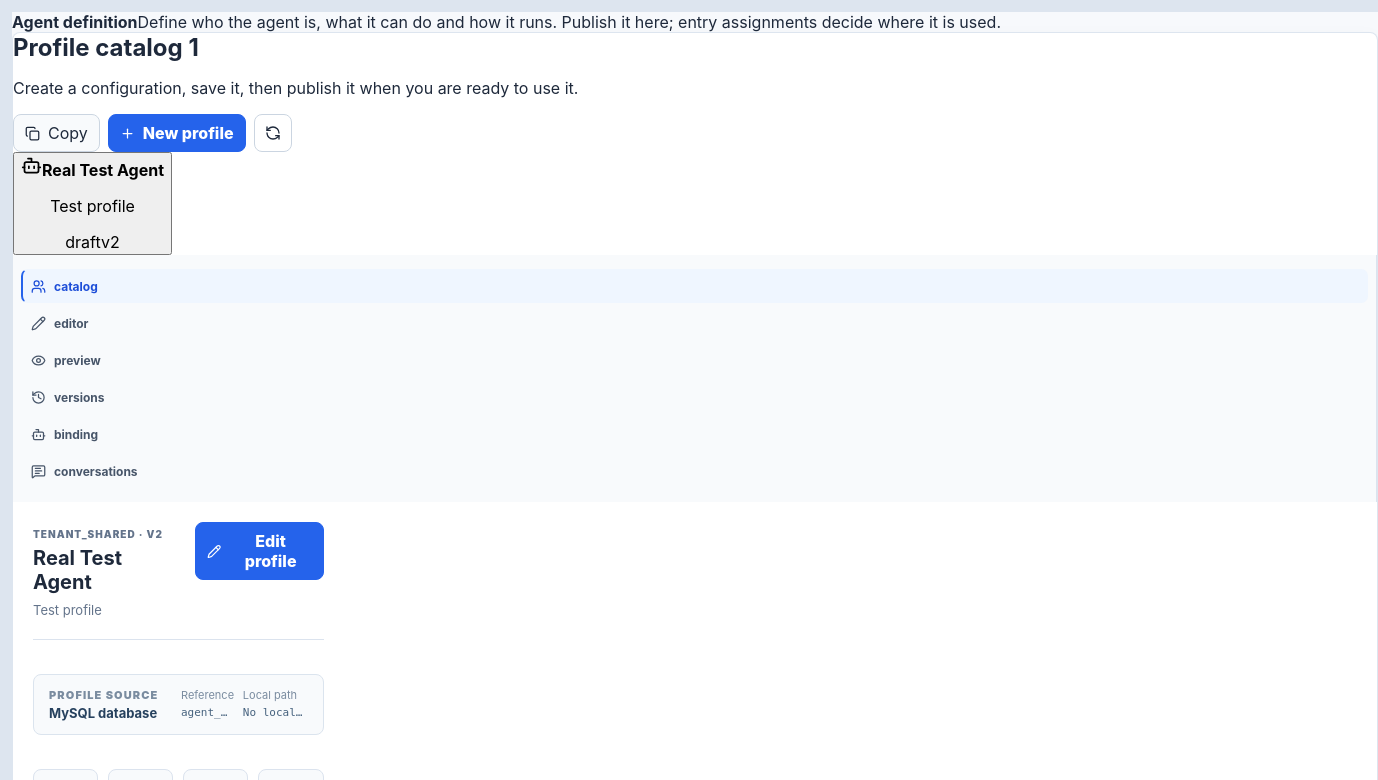
Test: v2 profile settings API workflows › creates rollback drafts through the existing version endpoint
Click the tab "versions" at (79, 397), box [21, 380, 1368, 414]
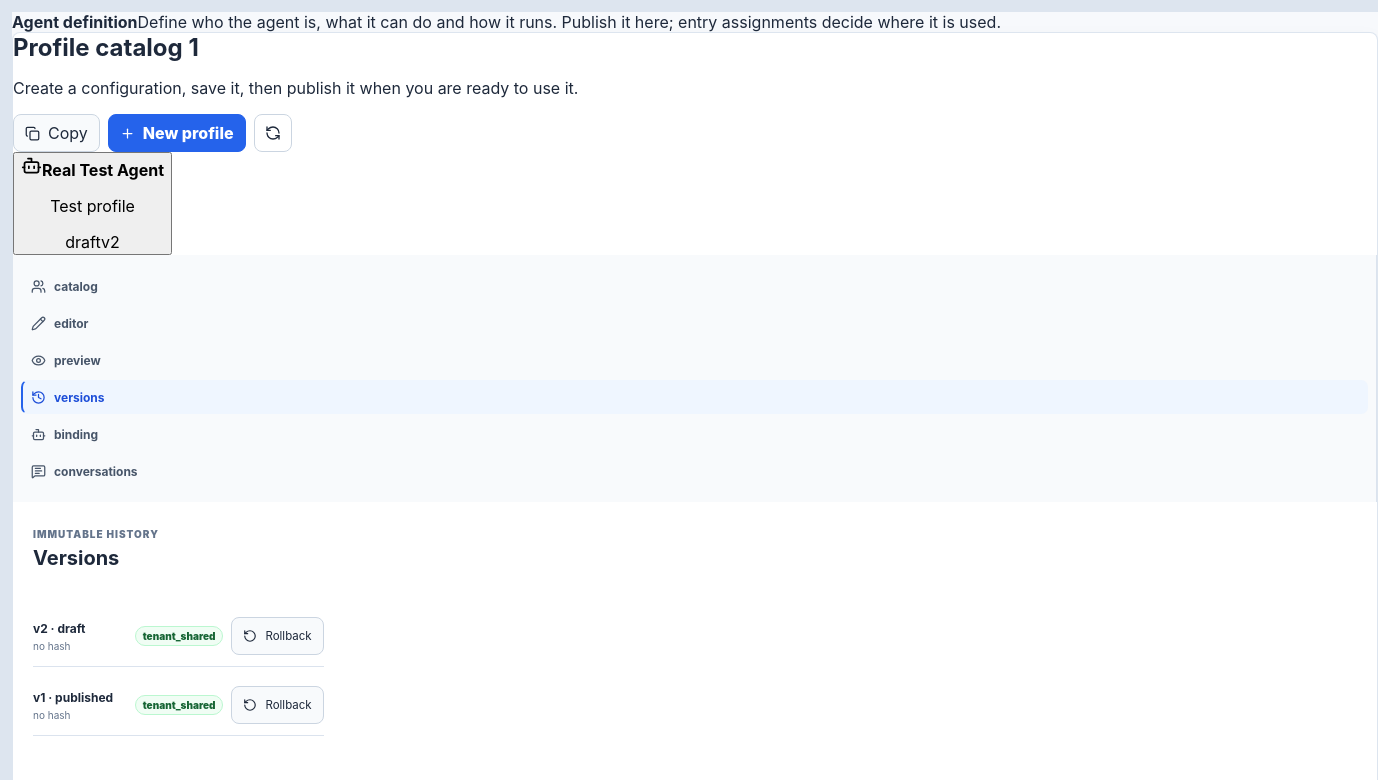
Click the 1st button "Rollback" at (278, 636), box [232, 617, 324, 655]
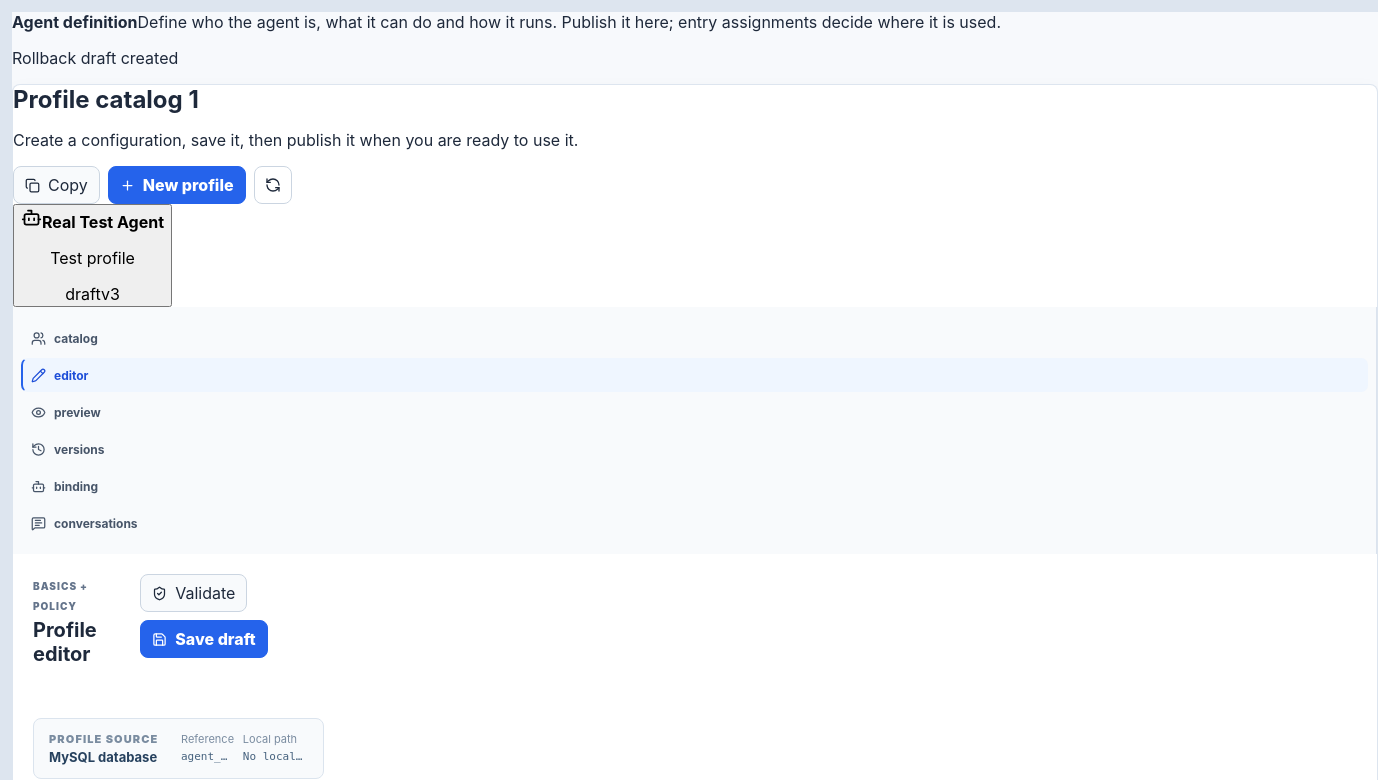
Now the text "Profile editor" is shown, box [33, 618, 97, 666]
Now the text "Rollback draft created" is shown, box [12, 48, 178, 68]
